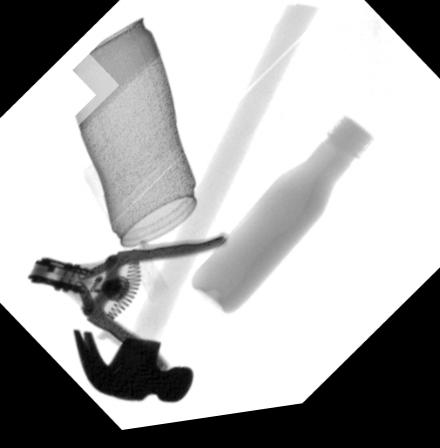Hammer: (71, 13, 318, 410)
Pliers: (26, 240, 227, 379)
